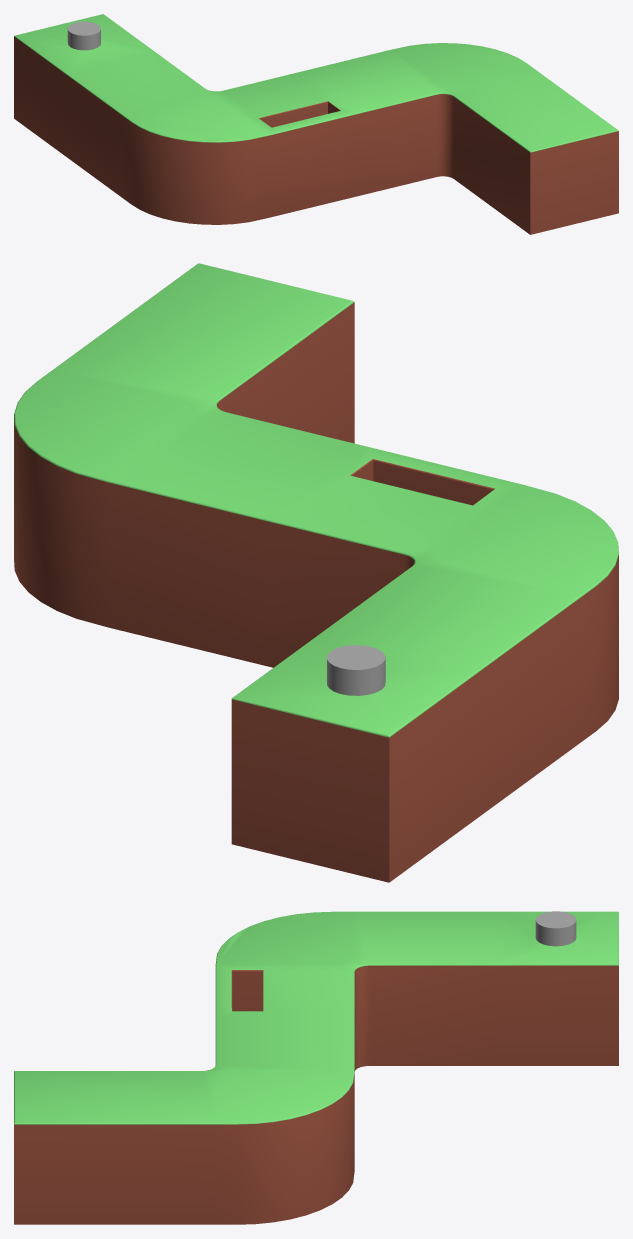
File: Level1.fbx
The picture shows the model from 3 angles, top to bottom: view 1: azimuth 30°, elevation 25°; view 2: azimuth 150°, elevation 25°; view 3: azimuth 270°, elevation 25°; orthographic projection. The views are drawn at different scales.
Parts seen in each view (by area): view 1: Platform_Level1, Hole1; view 2: Platform_Level1, Hole1; view 3: Platform_Level1, Hole1.
Boxes of the visible parts, bbox=[...] form: Platform_Level1: bbox=[14, 14, 618, 234]; Hole1: bbox=[67, 21, 100, 50]; Platform_Level1: bbox=[14, 263, 618, 882]; Hole1: bbox=[327, 645, 385, 695]; Platform_Level1: bbox=[14, 911, 618, 1224]; Hole1: bbox=[535, 911, 576, 946].
Bounding box in the file's own units: 15.15 × 3.98 × 18.27.
